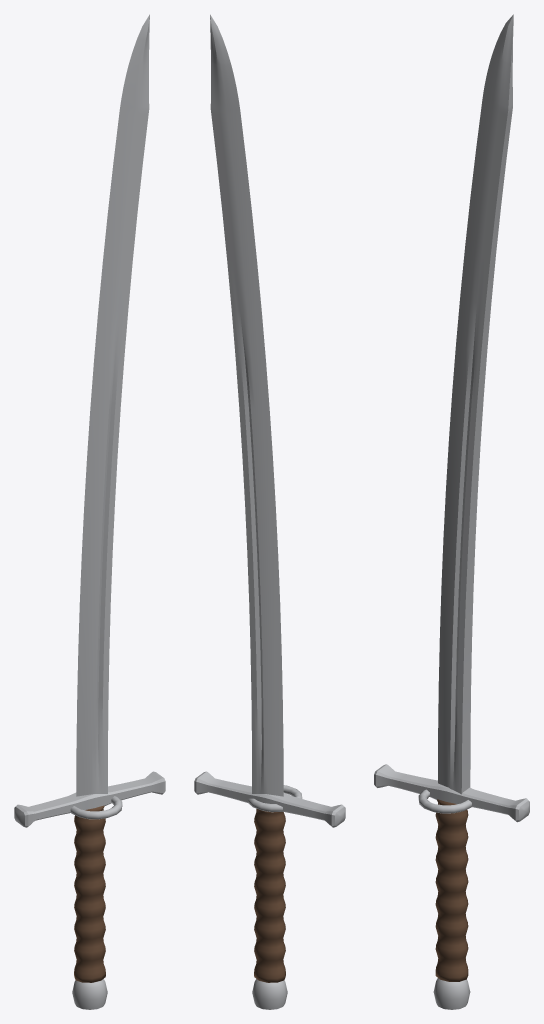
Rendered from aldori-dueling-sword.glb.
3 views of the same model, side by side, from view 1: azimuth 30°, elevation 25°; view 2: azimuth 150°, elevation 25°; view 3: azimuth 330°, elevation 25° (orthographic). The views are drawn at different scales.
Visible parts, largest first — view 1: aldori-dueling-sword; view 2: aldori-dueling-sword; view 3: aldori-dueling-sword.
Boxes of the visible parts, x1,y1,x2,y2 form: aldori-dueling-sword: (14, 14, 165, 1009); aldori-dueling-sword: (194, 14, 345, 1009); aldori-dueling-sword: (374, 14, 529, 1009).
Bounding box in the file's own units: 0.34 × 2.18 × 0.1118.
